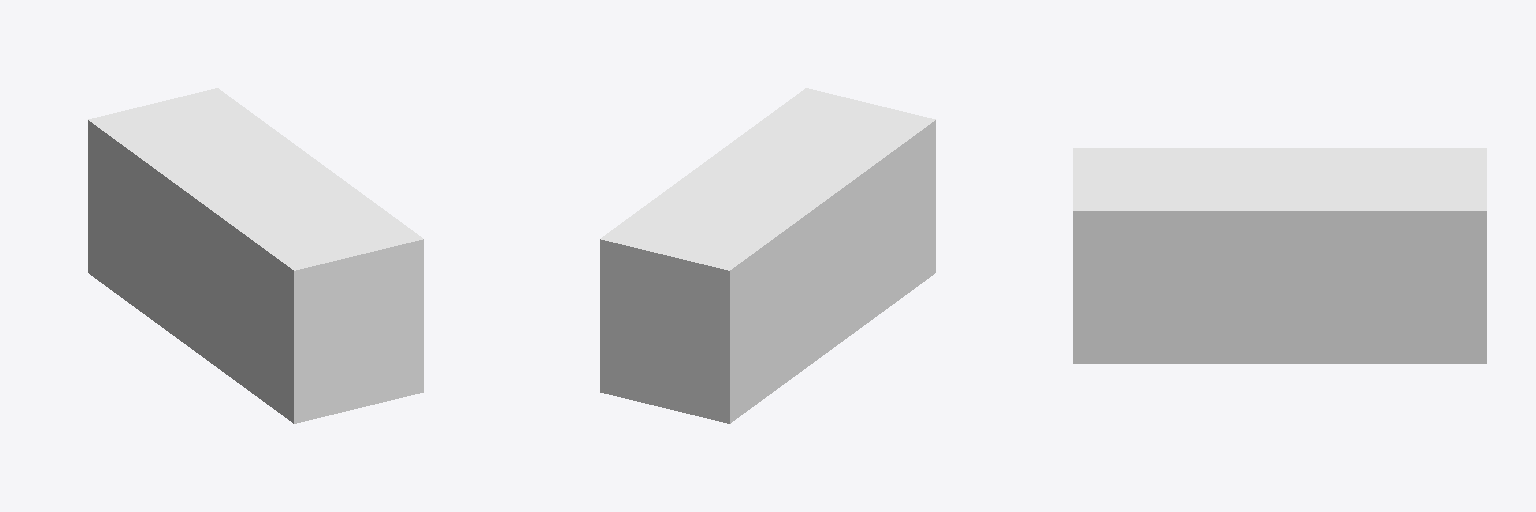
File: Akira-5.obj
The picture shows the model from 3 angles: view 1: azimuth 30°, elevation 25°; view 2: azimuth 150°, elevation 25°; view 3: azimuth 270°, elevation 25°; orthographic projection.
Visible parts, largest first — view 1: object 1; view 2: object 1; view 3: object 1.
Part boxes in pixels (bbox=[...]): object 1: bbox=[88, 88, 423, 423]; object 1: bbox=[600, 88, 935, 423]; object 1: bbox=[1073, 148, 1486, 363].
Size of the model in its own units: 0.8 by 0.9 by 2.2.